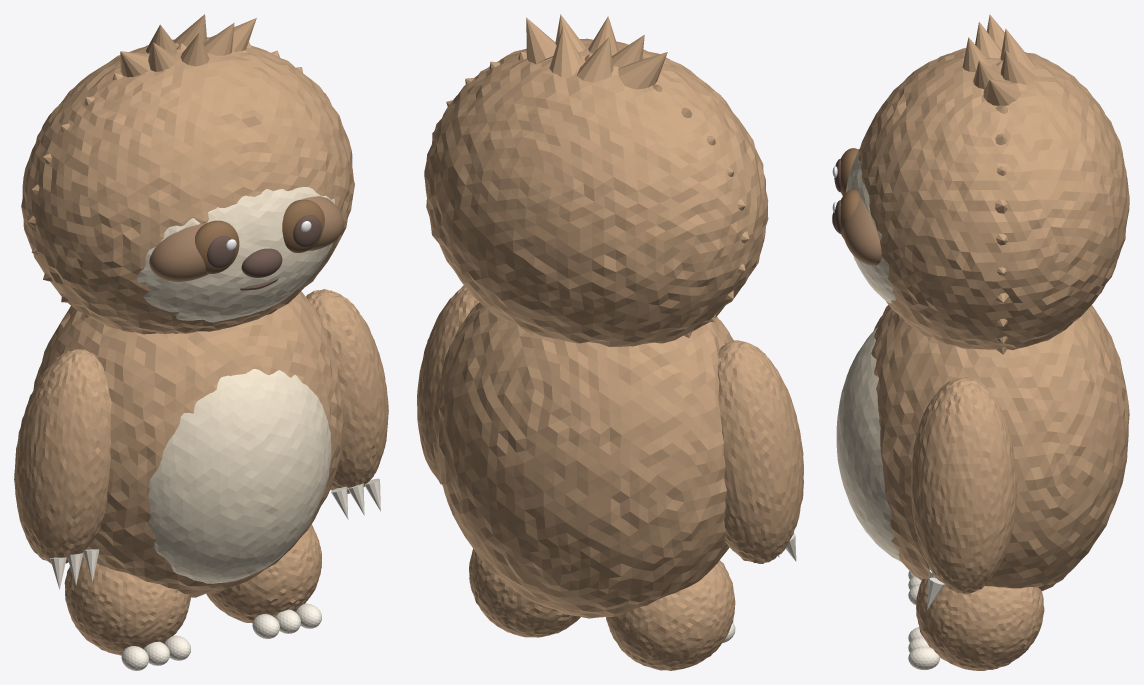
Rendered from cute_sloth.glb.
The picture shows the model from 3 angles, left to right: view 1: azimuth 30°, elevation 25°; view 2: azimuth 150°, elevation 25°; view 3: azimuth 270°, elevation 25°; orthographic projection. The views are drawn at different scales.
Visible parts, largest first — view 1: head, body, belly, arm_-1, face, arm_1, leg_-1, leg_1, hair_tuft, eye_patch_-1, toes_-1, toes_1 (+9 smaller); view 2: head, body, arm_-1, leg_-1, hair_tuft, leg_1, arm_1, head_fur; view 3: head, body, arm_1, leg_1, belly, hair_tuft, eye_patch_1, face, head_fur, toes_1, eye_1, eye_-1.
Boxes of the visible parts, x1,y1,x2,y2 form: head: (21, 37, 354, 334); body: (33, 291, 345, 597); belly: (148, 369, 331, 583); arm_-1: (14, 349, 111, 563); face: (137, 187, 334, 322); arm_1: (306, 289, 388, 493); leg_-1: (64, 556, 190, 655); leg_1: (206, 524, 321, 623); hair_tuft: (120, 14, 256, 77); eye_patch_-1: (149, 223, 208, 281); toes_-1: (121, 635, 190, 670); toes_1: (252, 603, 321, 638); head: (424, 38, 768, 346); body: (432, 302, 733, 618); arm_-1: (717, 340, 803, 563); leg_-1: (606, 560, 735, 670); hair_tuft: (526, 14, 667, 89); leg_1: (469, 549, 580, 637); arm_1: (417, 285, 479, 484); head_fur: (434, 49, 749, 338); head: (858, 48, 1129, 350); body: (871, 305, 1129, 590); arm_1: (910, 377, 1017, 593); leg_1: (916, 578, 1044, 670); belly: (836, 327, 901, 562); hair_tuft: (962, 14, 1036, 105); eye_patch_1: (842, 196, 881, 265); face: (845, 150, 895, 303); head_fur: (995, 60, 1008, 354); toes_1: (908, 627, 939, 670); eye_1: (840, 189, 859, 238); eye_-1: (840, 148, 858, 195).
Bounding box in the file's own units: 0.7678 × 1.24 × 0.5595.
